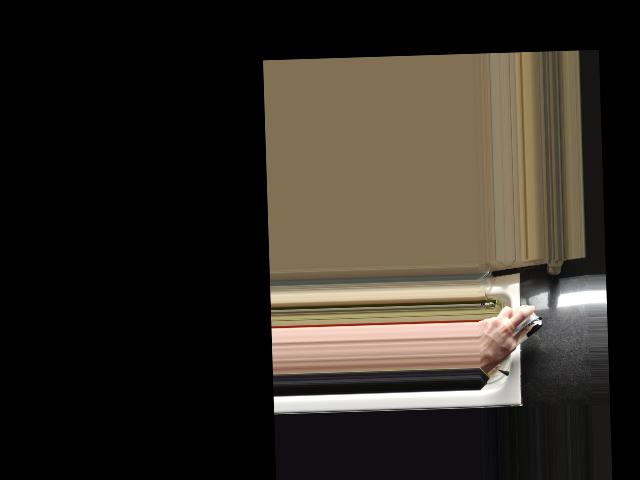cheese: (481, 307, 545, 355)
